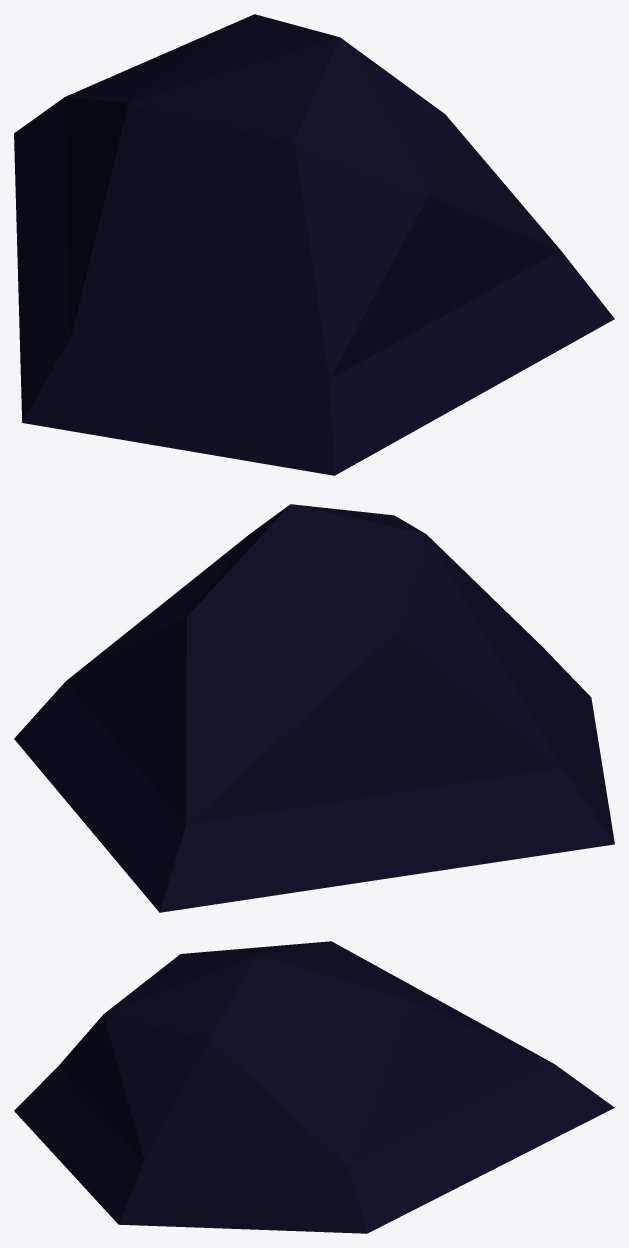
Rendered from rock01.fbx.
The picture shows the model from 3 angles, top to bottom: view 1: azimuth 30°, elevation 25°; view 2: azimuth 150°, elevation 25°; view 3: azimuth 270°, elevation 25°; orthographic projection. The views are drawn at different scales.
Visible parts, largest first — view 1: rock05; view 2: rock05; view 3: rock05.
Part boxes in pixels (x1,y1,x2,y2): rock05: (14, 14, 614, 475); rock05: (14, 504, 614, 912); rock05: (14, 941, 614, 1233).
Bounding box in the file's own units: 48.93 × 24.66 × 59.56.
